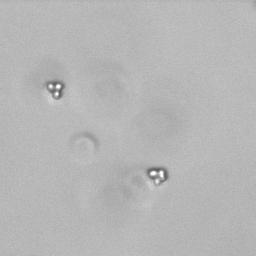budding: (43, 78, 68, 102), (146, 165, 170, 186)
